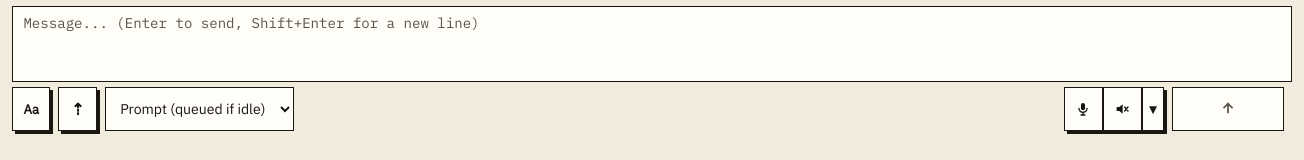
Test: the mic button › after speaking = review leaves the text in the box
Press the mouse on the button named "Voice input" at (1083, 109), box [1064,87,1103,131]
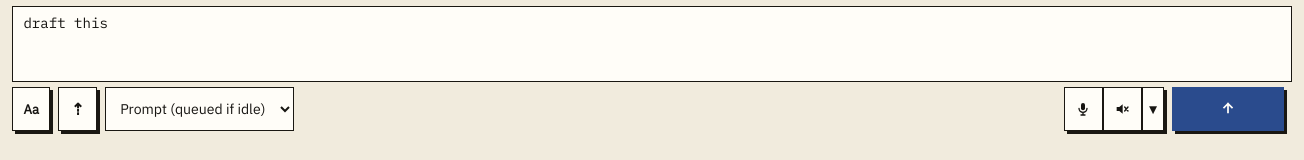
Expected: the text box named "Message" holds "draft this", [12,6,1292,82]
